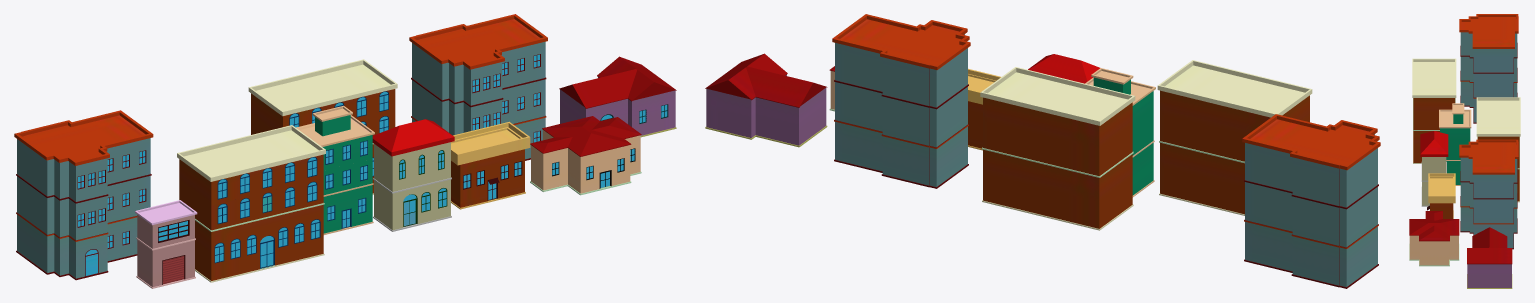
Rendered from Predios-oficial.fbx.
3 renders of one model, left to right at view 1: azimuth 30°, elevation 25°; view 2: azimuth 150°, elevation 25°; view 3: azimuth 270°, elevation 25°, orthographic. The views are drawn at different scales.
Parts seen in each view (by area): view 1: building_008, building_004.001, building_008.001, building_005.001, building_004.002, building_006, building_003, building_007, building_004, building_005; view 2: building_004.002, building_008, building_008.001, building_004.001, building_007, building_003, building_004, building_005.001; view 3: building_008.001, building_008, building_004.001, building_007, building_006, building_004.002, building_003, building_005.001, building_004.
Part boxes in pixels (x1,y1,x2,y2): building_008: (14, 110, 153, 280); building_004.001: (177, 125, 325, 282); building_008.001: (409, 14, 547, 160); building_005.001: (372, 119, 454, 231); building_004.002: (248, 59, 397, 194); building_006: (530, 116, 641, 195); building_003: (296, 105, 374, 234); building_007: (559, 56, 676, 137); building_004: (451, 121, 530, 209); building_005: (135, 200, 197, 288); building_004.002: (980, 67, 1135, 230); building_008: (1242, 114, 1380, 288); building_008.001: (832, 14, 970, 188); building_004.001: (1157, 60, 1312, 215); building_007: (705, 53, 827, 147); building_003: (1085, 68, 1155, 197); building_004: (968, 68, 1000, 150); building_005.001: (1028, 54, 1099, 83); building_008.001: (1459, 139, 1518, 249); building_008: (1459, 14, 1518, 123); building_004.001: (1412, 58, 1456, 163); building_007: (1467, 227, 1512, 288); building_006: (1409, 211, 1459, 266); building_004.002: (1476, 97, 1520, 202); building_003: (1439, 103, 1471, 185); building_005.001: (1420, 131, 1448, 206); building_004: (1427, 173, 1455, 218).
Size of the model in its own units: 10544 by 1912 by 2506.
